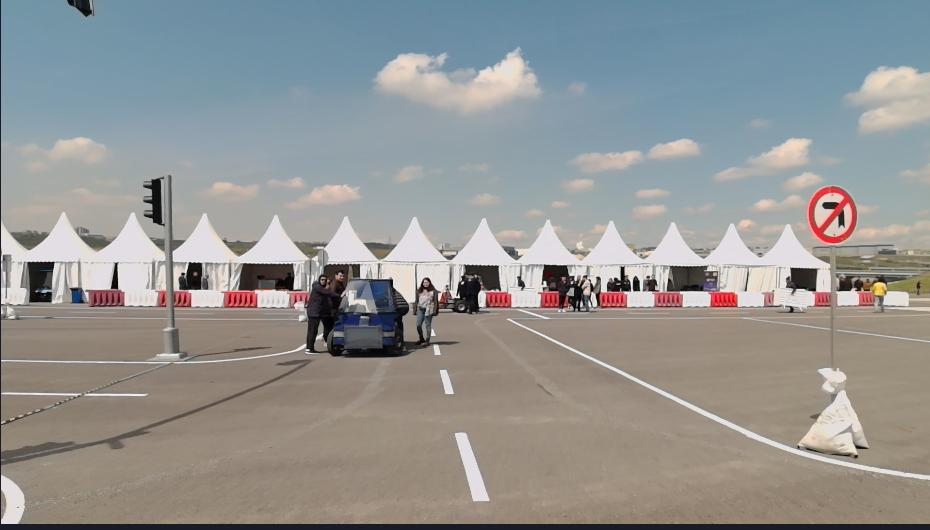nesne: (0, 304, 930, 527), (432, 305, 928, 527), (1, 308, 496, 524), (507, 307, 928, 481), (326, 277, 410, 352), (799, 365, 870, 452), (0, 344, 304, 364), (598, 290, 775, 307), (808, 186, 857, 243), (304, 277, 339, 352), (453, 430, 488, 501), (411, 274, 438, 345), (836, 326, 928, 343), (774, 273, 810, 315), (476, 291, 556, 309), (0, 473, 26, 525), (0, 388, 147, 397), (455, 270, 481, 312), (438, 282, 467, 312), (572, 273, 593, 309), (553, 273, 572, 310), (87, 288, 123, 307), (189, 291, 224, 307), (224, 290, 257, 306), (255, 290, 288, 306), (123, 290, 157, 305), (624, 291, 654, 308), (507, 291, 538, 307), (654, 291, 684, 307), (708, 291, 736, 307), (598, 291, 627, 306), (438, 367, 454, 394), (487, 291, 512, 308), (872, 279, 885, 311), (735, 290, 761, 306), (682, 292, 708, 307), (836, 270, 853, 290), (0, 305, 20, 322), (68, 285, 84, 305), (330, 270, 346, 290), (887, 292, 907, 307), (592, 276, 603, 303), (538, 291, 555, 308), (838, 290, 857, 305), (642, 271, 657, 289), (292, 290, 309, 305), (604, 275, 622, 289), (172, 290, 188, 305), (294, 300, 307, 318), (762, 290, 776, 306), (189, 269, 200, 288), (816, 289, 829, 305), (621, 270, 632, 288), (516, 275, 527, 289), (631, 273, 640, 289), (478, 291, 487, 307), (157, 289, 166, 304), (178, 270, 185, 289), (859, 291, 869, 304), (853, 275, 863, 288), (914, 277, 922, 293), (202, 273, 210, 288), (666, 277, 674, 288), (863, 276, 870, 288), (433, 344, 441, 354)
